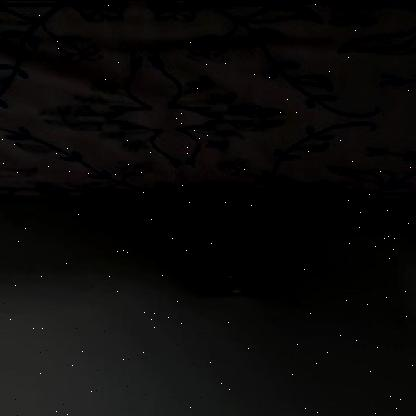Can: (176, 177, 276, 305)
